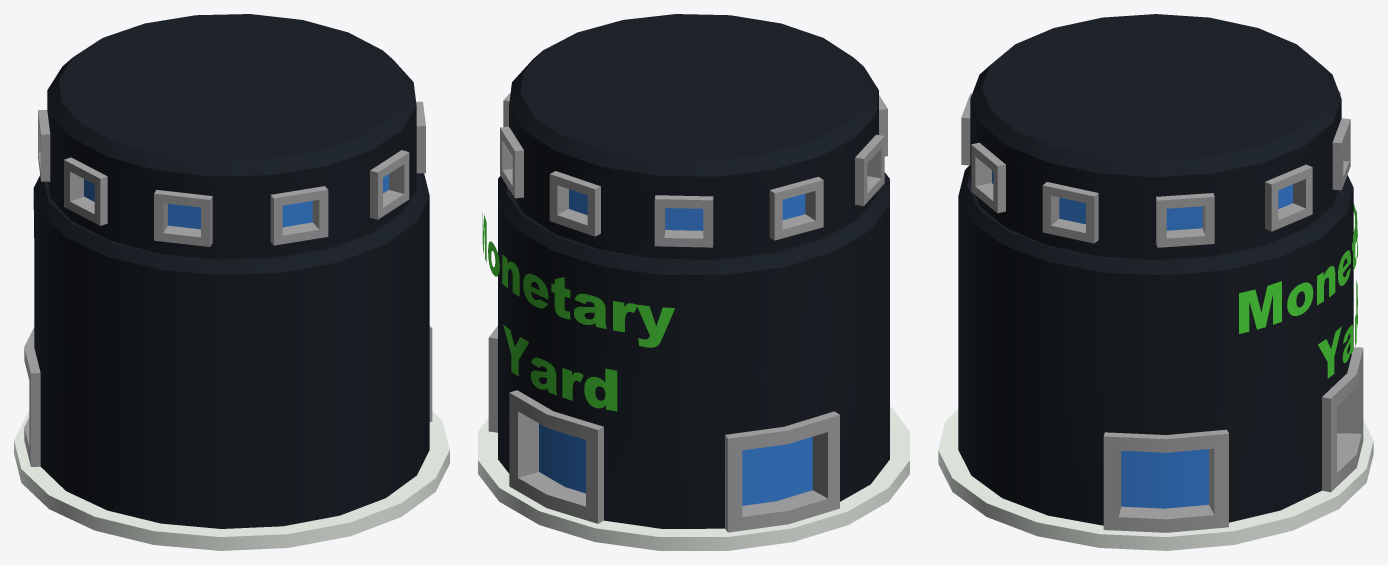
Rendered from MYCircleBildingNEW.fbx.
3 views of the same model, side by side, from view 1: azimuth 30°, elevation 25°; view 2: azimuth 150°, elevation 25°; view 3: azimuth 270°, elevation 25° (orthographic).
Parts seen in each view (by area): view 1: MYCircleNEW, MYLevelGrovNEW; view 2: MYCircleNEW, MYLevelGrovNEW, Text007; view 3: MYCircleNEW, MYLevelGrovNEW, Text007.
Boxes of the visible parts, box(x1,y1,x2,y2) form: MYCircleNEW: box(14, 173, 449, 550); MYLevelGrovNEW: box(38, 14, 425, 259); MYCircleNEW: box(478, 172, 909, 550); MYLevelGrovNEW: box(500, 14, 887, 259); Text007: box(482, 212, 674, 411); MYCircleNEW: box(938, 165, 1373, 550); MYLevelGrovNEW: box(961, 14, 1350, 259); Text007: box(1239, 203, 1357, 378).
Size of the model in its own units: 571 by 537 by 571.
